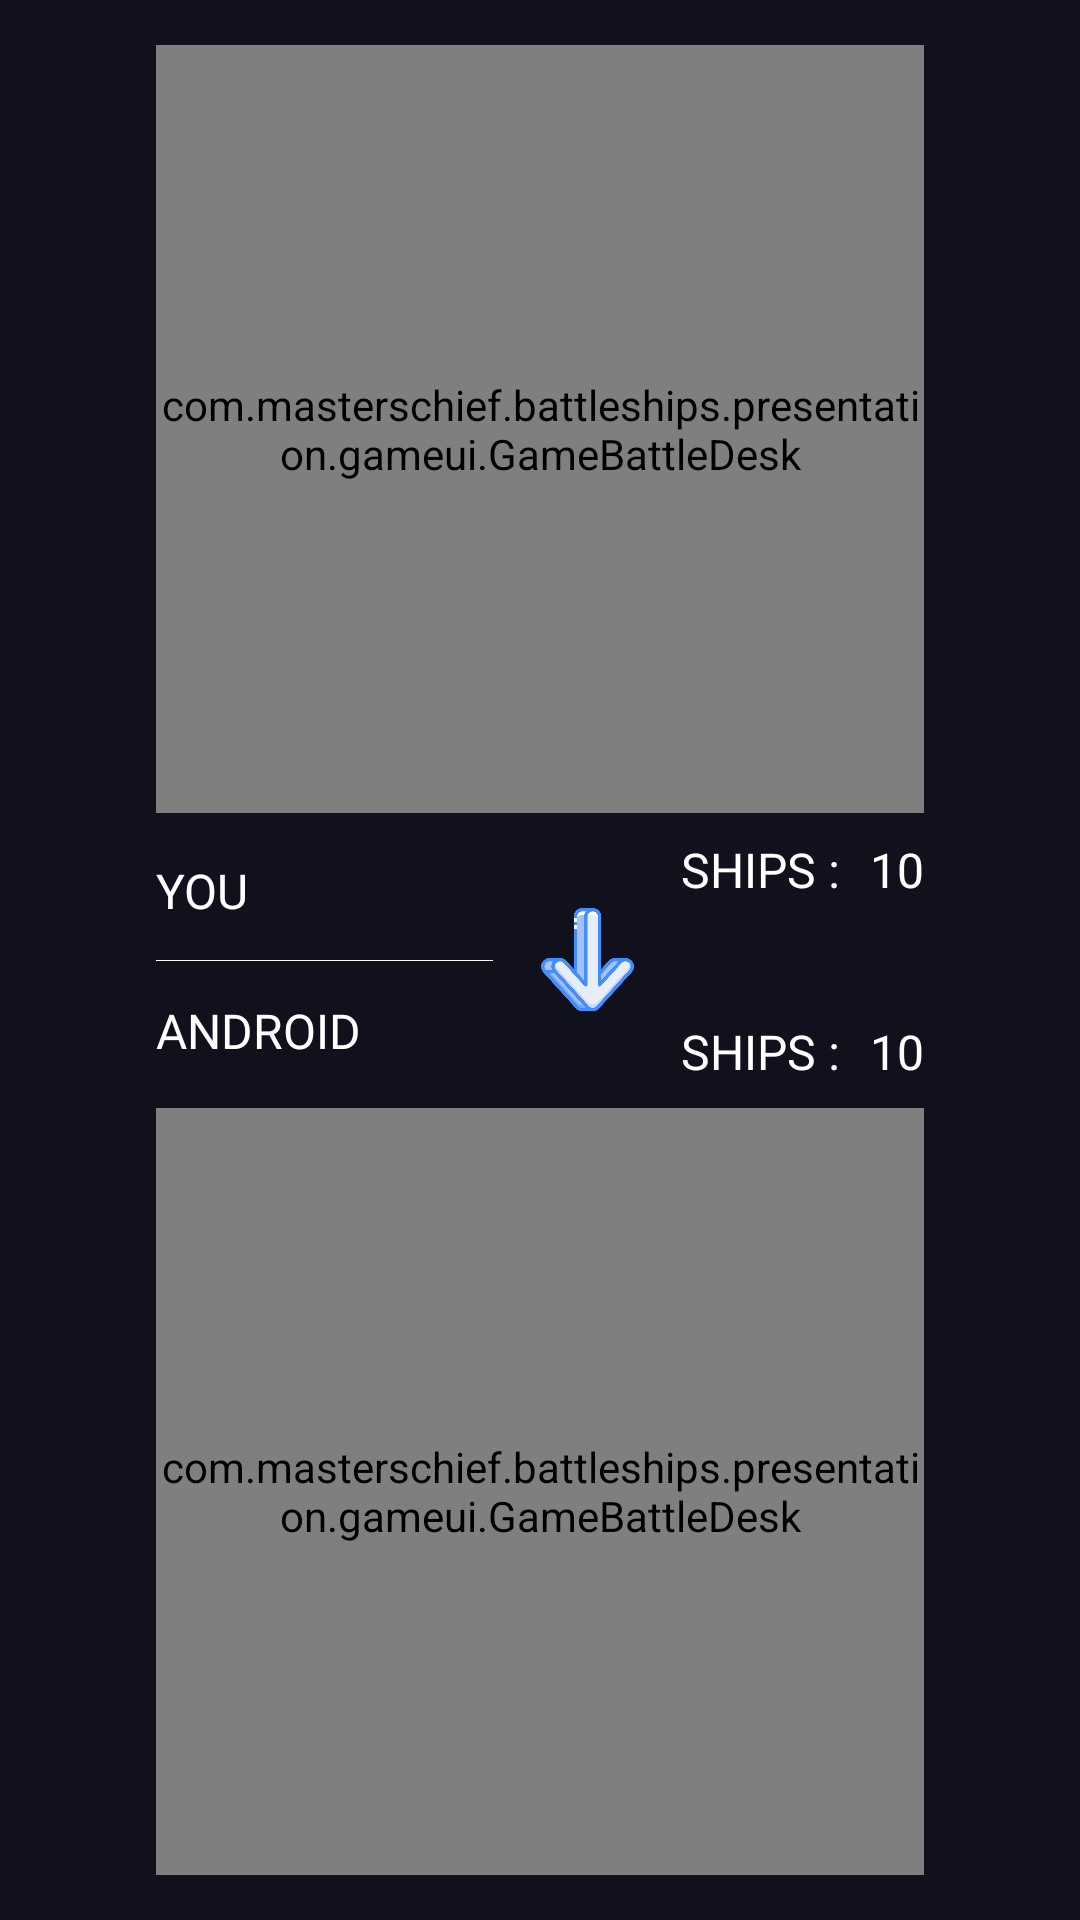

Named icons in this screenshot (1080x1920) and their bounding boxes, {"x1": x1, "y1": y1, "x2": x2, "y2": y2}:
arrow bottom: {"x1": 541, "y1": 908, "x2": 634, "y2": 1011}
